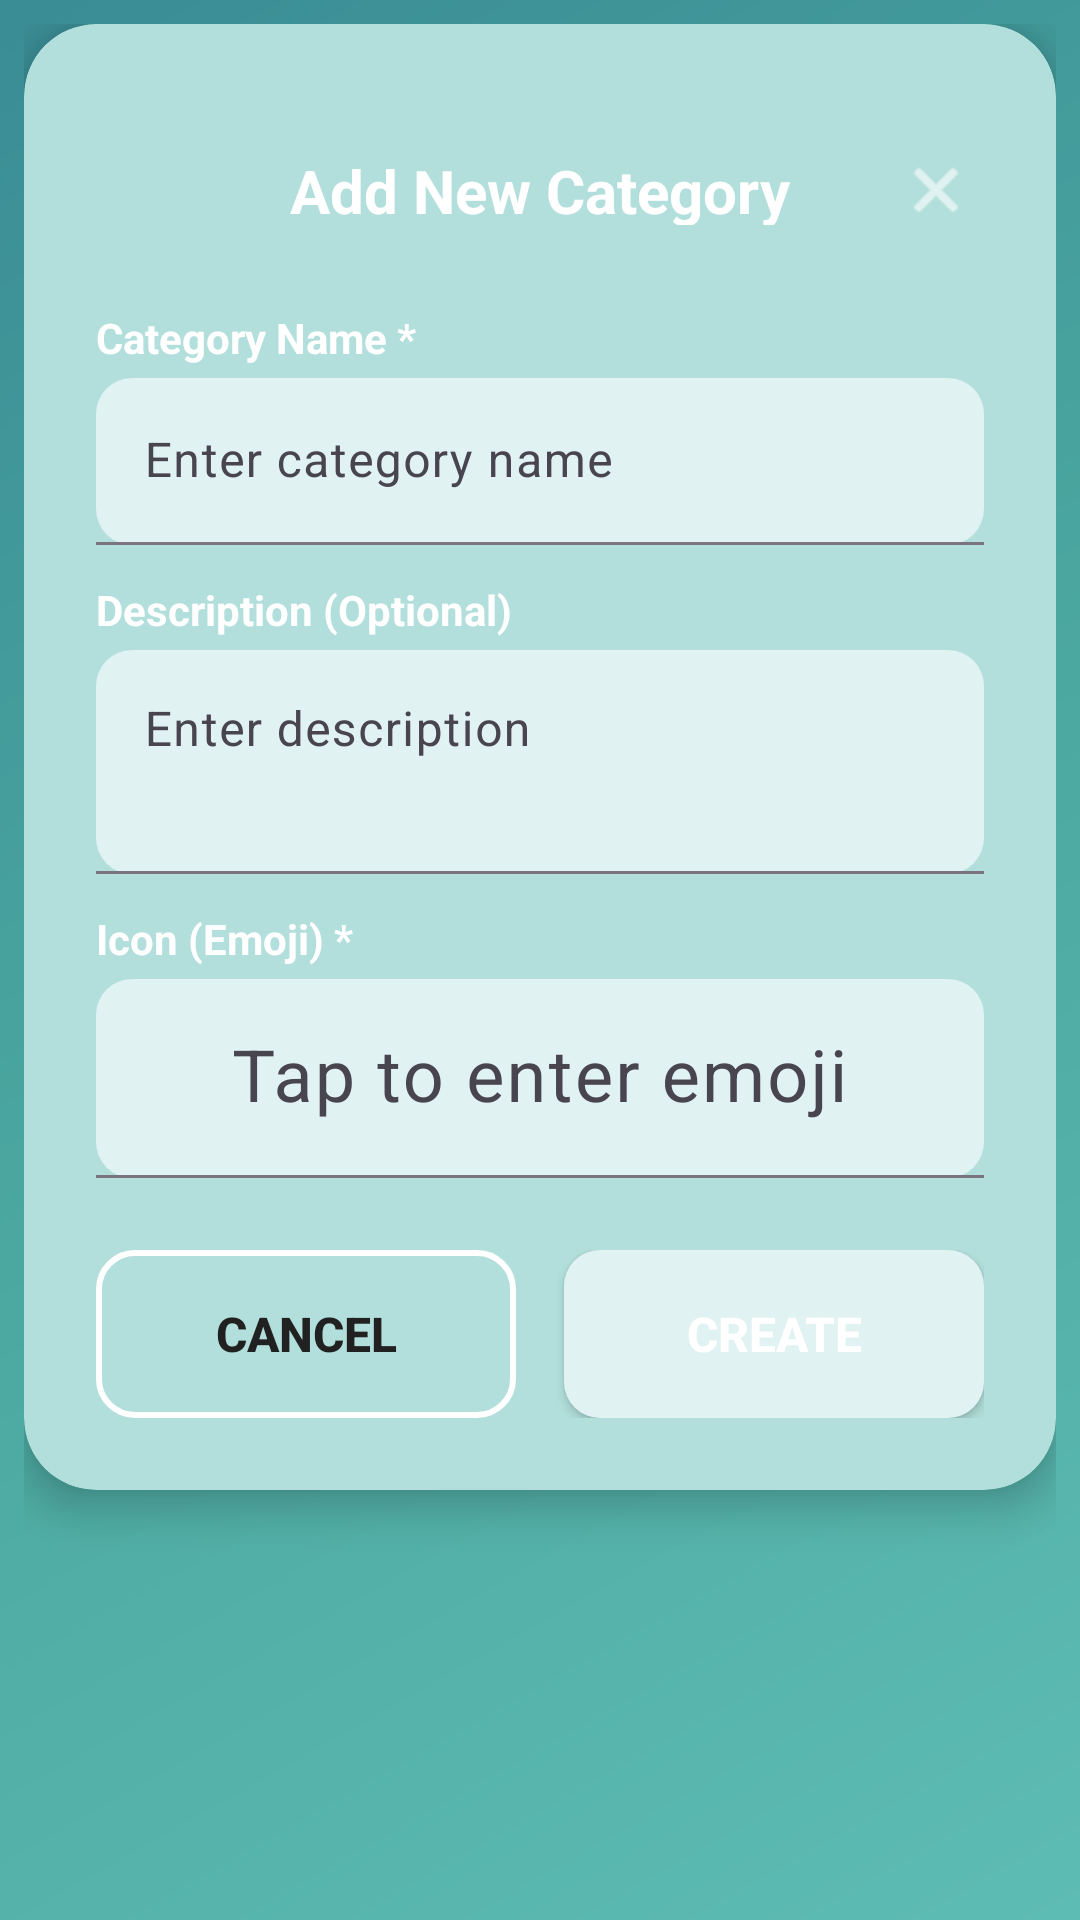

Icon bounding boxes for this 1080 x 1920 phone screenshot, format (x1, y1, x2, y2):
Close: (914, 168, 958, 212)
